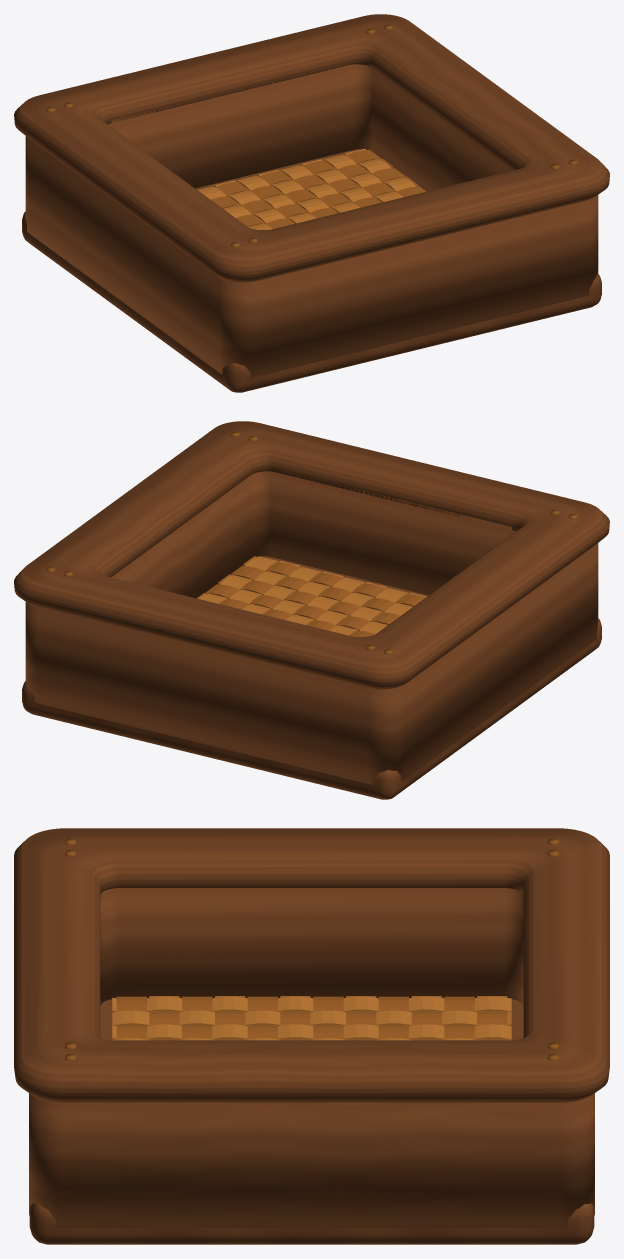
Rendered from basket_redwood.glb.
The picture shows the model from 3 angles, top to bottom: view 1: azimuth 30°, elevation 25°; view 2: azimuth 150°, elevation 25°; view 3: azimuth 270°, elevation 25°; orthographic projection. The views are drawn at different scales.
Visible parts, largest first — view 1: basket_redwood.001; view 2: basket_redwood.001; view 3: basket_redwood.001.
Part boxes in pixels (x1=…): basket_redwood.001: x1=14, y1=14, x2=609, y2=392; basket_redwood.001: x1=14, y1=421, x2=609, y2=799; basket_redwood.001: x1=14, y1=828, x2=609, y2=1244.
Size of the model in its own units: 1 by 0.3385 by 1.
Materials: 1 (1 with a texture image).
